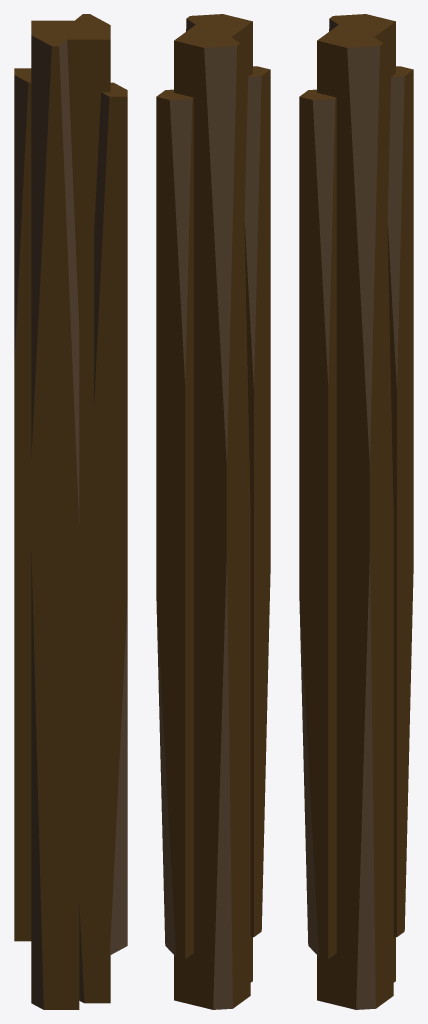
Rendered from DockPost.fbx.
3 views of the same model, side by side, from view 1: azimuth 90°, elevation 25°; view 2: azimuth 150°, elevation 25°; view 3: azimuth 330°, elevation 25° (orthographic).
Parts seen in each view (by area): view 1: DockPost; view 2: DockPost; view 3: DockPost.
Boxes of the visible parts, x1,y1,x2,y2 form: DockPost: (14,14,127,1009); DockPost: (156,14,270,1009); DockPost: (299,14,413,1009).
Bounding box in the file's own units: 13.92 × 193 × 20.62.
